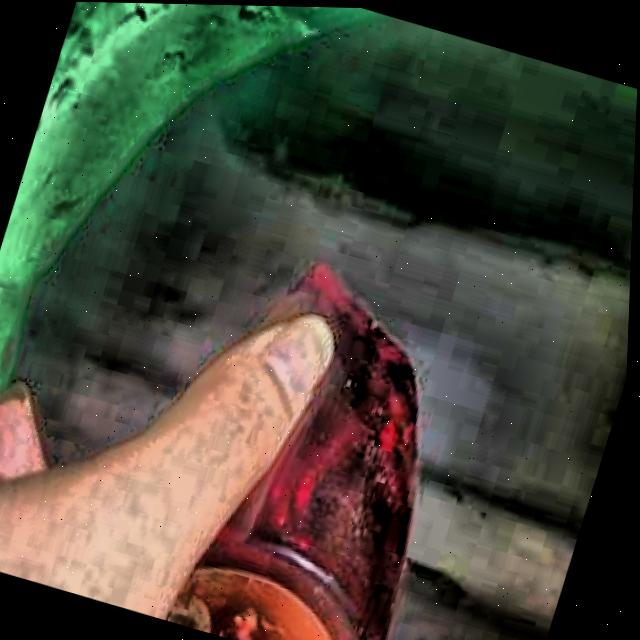glass: (202, 262, 418, 640)
